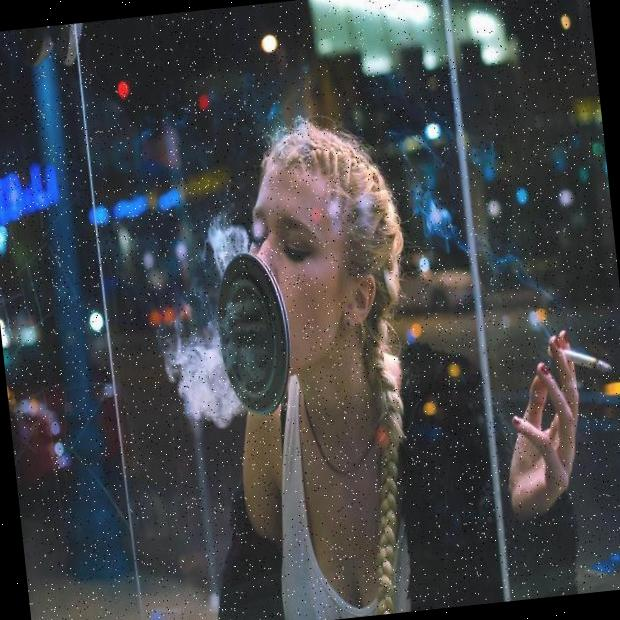smoke: (166, 337, 237, 425), (199, 217, 250, 270)
